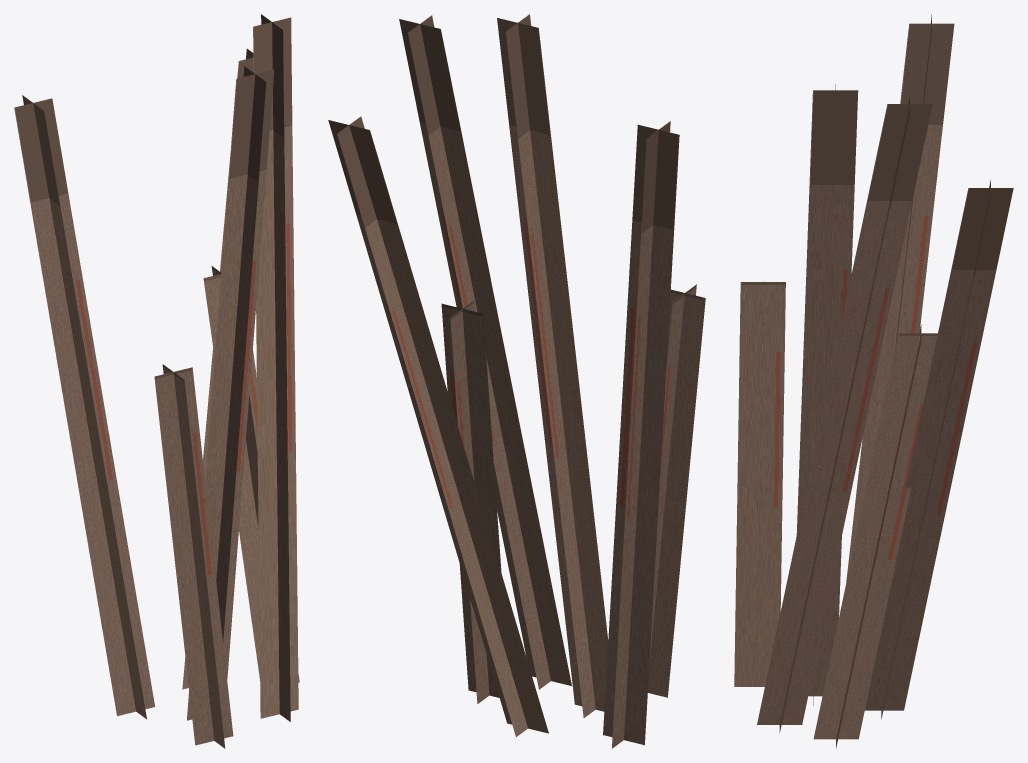
The model's file is ChanHuongCu.glb.
The picture shows the model from 3 angles, left to right: view 1: azimuth 30°, elevation 25°; view 2: azimuth 150°, elevation 25°; view 3: azimuth 270°, elevation 25°; orthographic projection. The views are drawn at different scales.
Parts seen in each view (by area): view 1: ChanHuongCu; view 2: ChanHuongCu; view 3: ChanHuongCu.
Part boxes in pixels (bbox=[...]): ChanHuongCu: bbox=[14, 14, 299, 748]; ChanHuongCu: bbox=[328, 14, 705, 748]; ChanHuongCu: bbox=[734, 14, 1013, 748].
Size of the model in its own units: 0.0611 by 0.1266 by 0.0494.
Materials: 1 (1 with a texture image).
